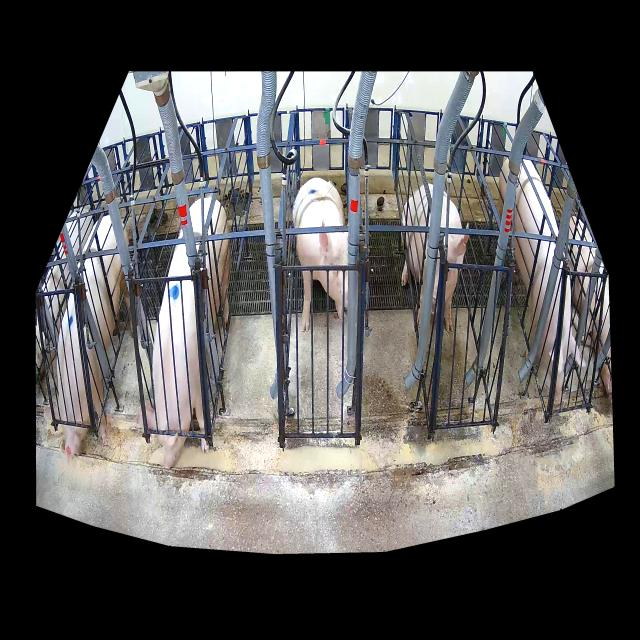pig: (146, 198, 230, 469), (498, 156, 585, 404), (53, 215, 133, 466), (401, 185, 469, 332), (293, 177, 348, 332)
